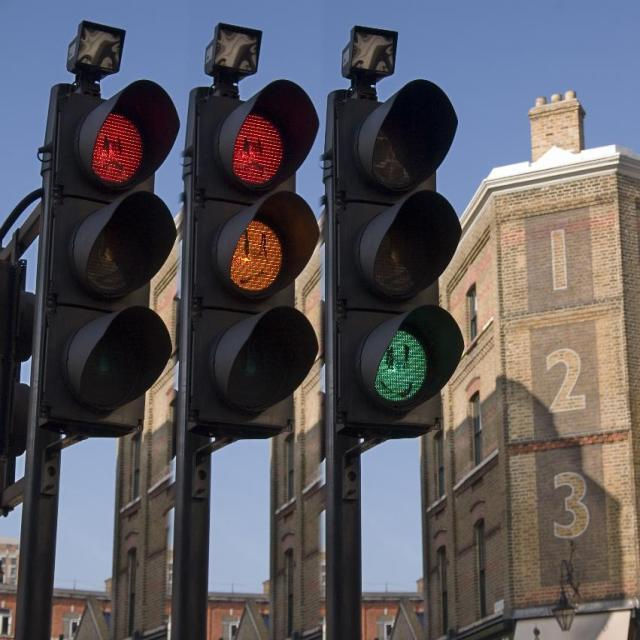traffic light: (36, 80, 182, 424), (331, 78, 466, 426), (189, 77, 322, 424)
